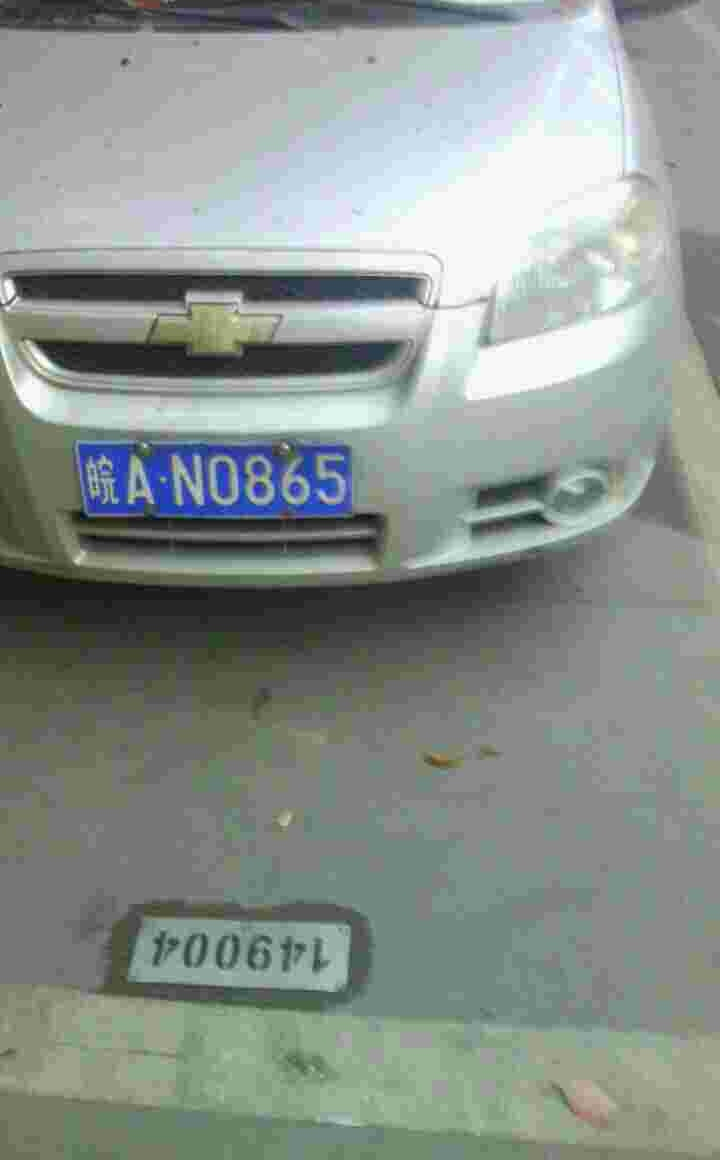car: (74, 440, 367, 518)
